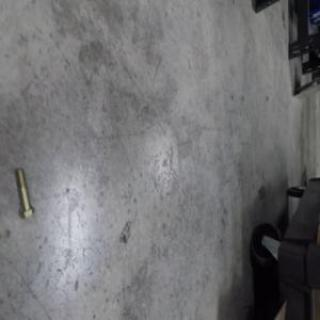Bolttrack_idkeyframe: (14, 166, 35, 219)
